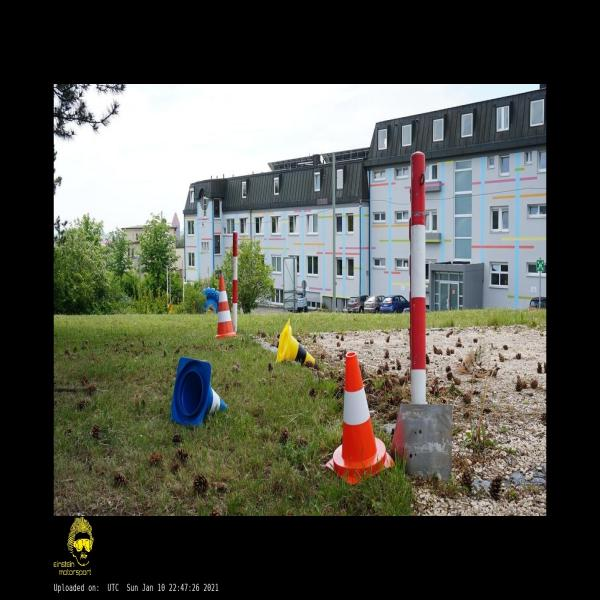blue_cone: (169, 357, 227, 427)
large_orange_cone: (215, 276, 237, 338)
orange_cone: (326, 352, 395, 484)
yellow_cone: (275, 318, 315, 364)
